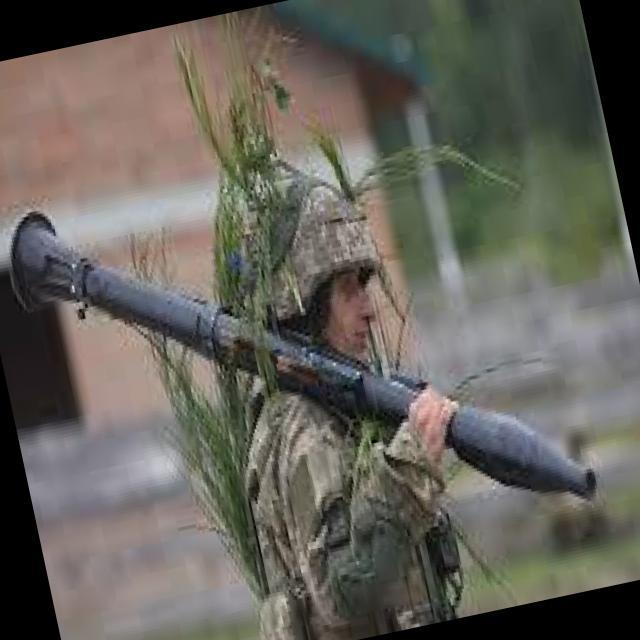rocket: (0, 96, 601, 603)
